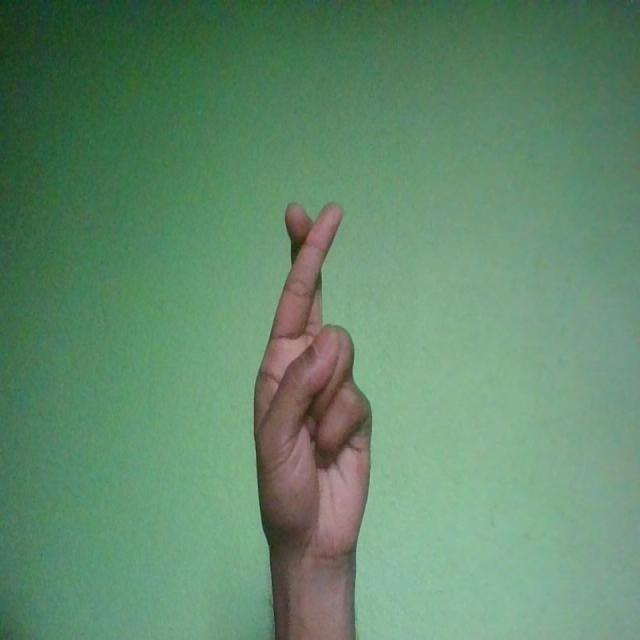Ok: (253, 203, 374, 572)
